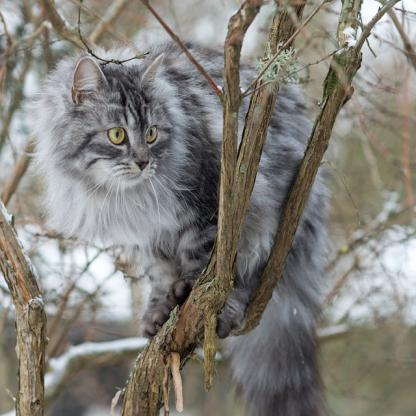cat: (33, 44, 326, 415)
